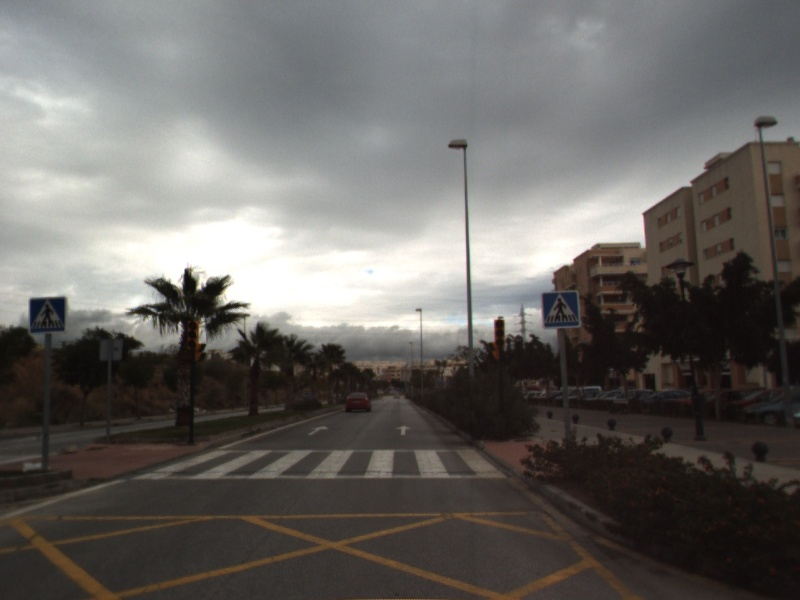STRAIGHT: (306, 423, 330, 437), (394, 423, 413, 437)
